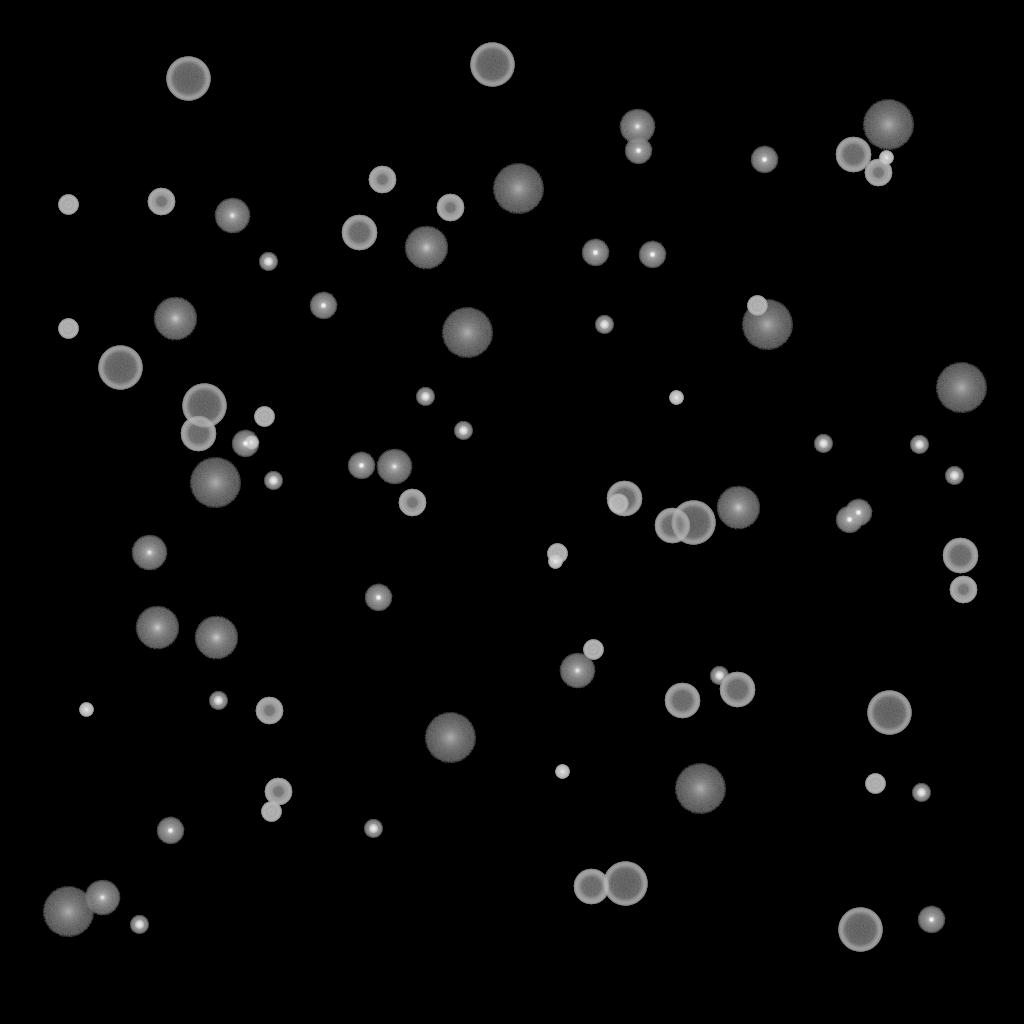depth:-10: (231, 430, 259, 458), (835, 506, 863, 534), (917, 906, 945, 934), (581, 239, 609, 267), (309, 292, 337, 320), (156, 817, 184, 845), (364, 584, 392, 612), (347, 452, 375, 480), (638, 241, 666, 269), (844, 499, 872, 527), (750, 146, 778, 174), (624, 137, 652, 165)
depth:-20: (209, 692, 227, 710), (945, 467, 963, 485), (595, 316, 613, 334), (814, 435, 832, 453), (912, 784, 930, 802), (416, 388, 434, 406), (364, 820, 382, 838), (910, 436, 928, 454), (454, 422, 472, 440), (259, 253, 277, 271), (130, 916, 148, 934), (264, 472, 282, 490), (710, 667, 728, 685)
depth:-30: (244, 436, 258, 450), (79, 703, 93, 717), (548, 555, 562, 569), (879, 151, 893, 165), (555, 765, 569, 779), (669, 391, 683, 405)
depth:-40: (261, 802, 281, 822), (254, 407, 274, 427), (747, 296, 767, 316), (865, 774, 885, 794), (58, 319, 78, 339), (608, 494, 628, 514), (583, 640, 603, 660), (547, 544, 567, 564), (58, 195, 78, 215)
depth:-50: (398, 489, 426, 517), (255, 697, 283, 725), (949, 576, 977, 604), (147, 188, 175, 216), (264, 778, 292, 806), (436, 194, 464, 222), (368, 166, 396, 194), (864, 159, 892, 187)
depth:-60: (654, 508, 690, 544), (664, 683, 700, 719), (719, 672, 755, 708), (180, 416, 216, 452), (835, 137, 871, 173), (942, 538, 978, 574), (341, 215, 377, 251), (573, 869, 609, 905), (606, 481, 642, 517)
depth:-70: (182, 384, 226, 428), (603, 862, 647, 906), (867, 691, 911, 735), (98, 346, 142, 390), (671, 501, 715, 545), (166, 57, 210, 101), (838, 908, 882, 952), (470, 43, 514, 87)
depth:0: (559, 653, 595, 689), (376, 449, 412, 485), (619, 109, 655, 145), (214, 198, 250, 234), (131, 535, 167, 571), (84, 880, 120, 916)
depth:10: (194, 616, 238, 660), (404, 226, 448, 270), (153, 297, 197, 341), (135, 606, 179, 650), (716, 486, 760, 530)
depth:20: (862, 100, 914, 150), (674, 764, 726, 814), (935, 363, 987, 413), (42, 887, 94, 937), (441, 308, 493, 358), (741, 300, 793, 350), (189, 458, 241, 508), (424, 713, 476, 763), (492, 164, 544, 214)
